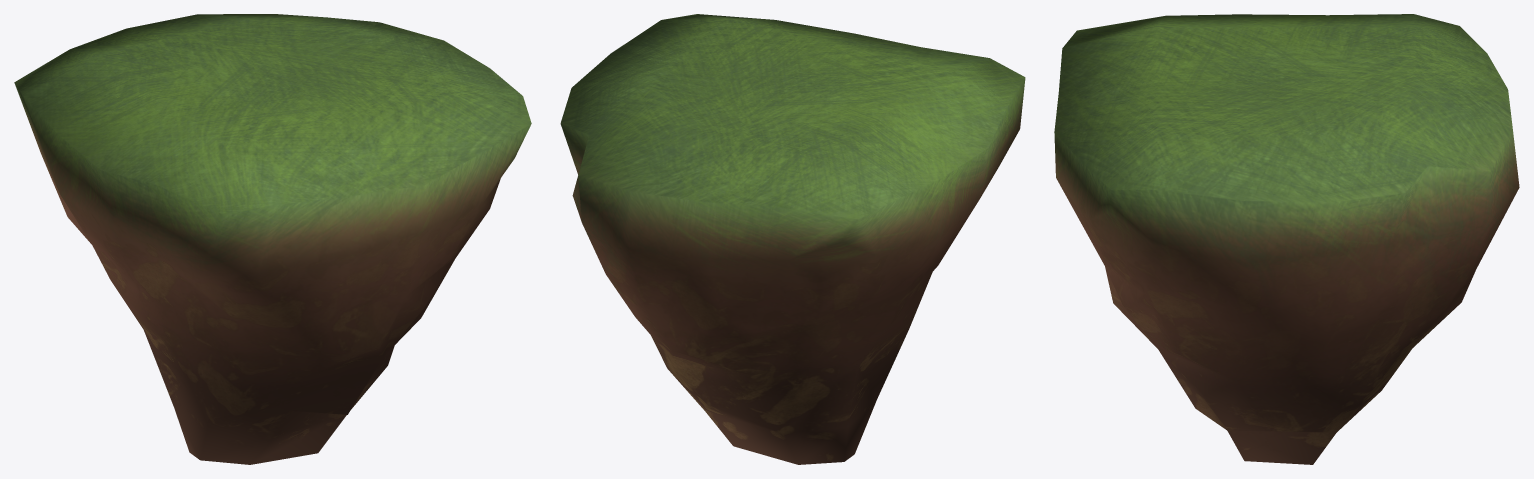
3 renders of one model, left to right at view 1: azimuth 30°, elevation 25°; view 2: azimuth 150°, elevation 25°; view 3: azimuth 270°, elevation 25°, orthographic. The views are drawn at different scales.
Visible parts, largest first — view 1: ground 1 B; view 2: ground 1 B; view 3: ground 1 B.
Part boxes in pixels (bbox=[...]): ground 1 B: bbox=[14, 14, 531, 464]; ground 1 B: bbox=[560, 14, 1025, 464]; ground 1 B: bbox=[1054, 14, 1519, 464].
Bounding box in the file's own units: 782 × 708 × 804.
